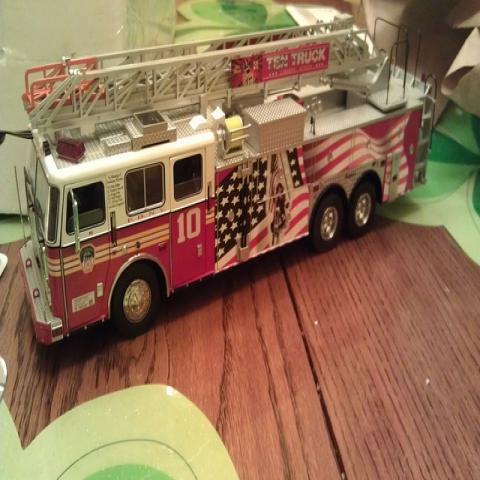truck: (0, 14, 438, 345)
